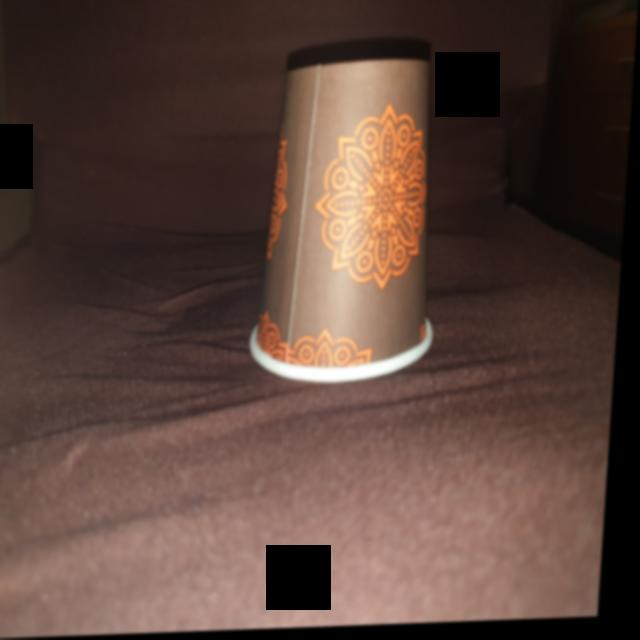cups: (250, 52, 455, 390)
